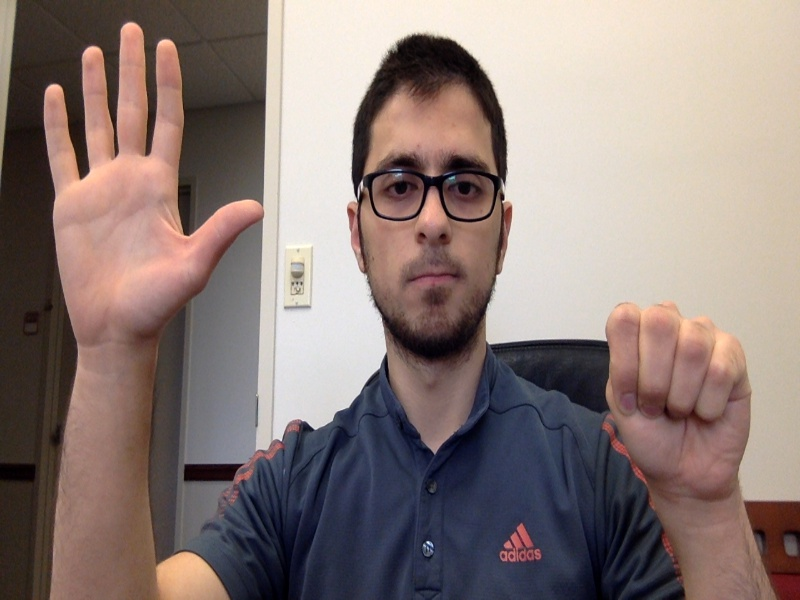0-hand: (606, 302, 751, 496)
5-hand: (42, 22, 263, 357)
